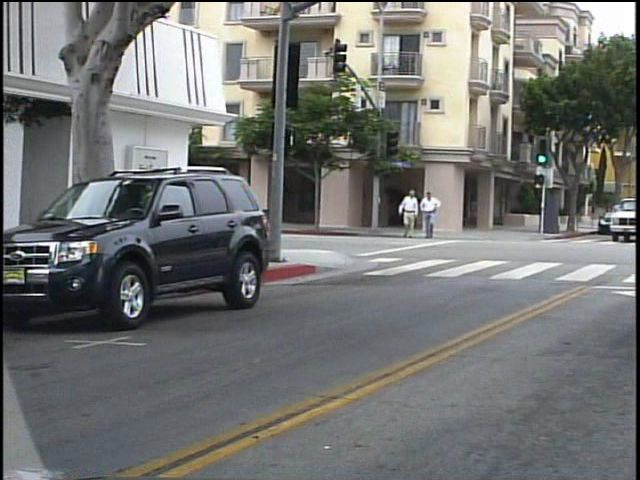person: (402, 185, 426, 246), (423, 187, 448, 242)
